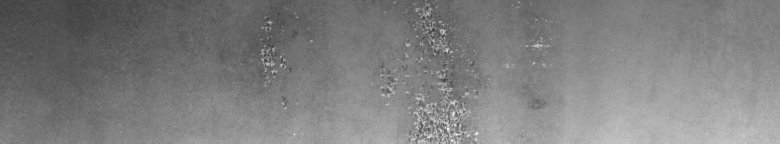hc: (378, 4, 552, 136)
